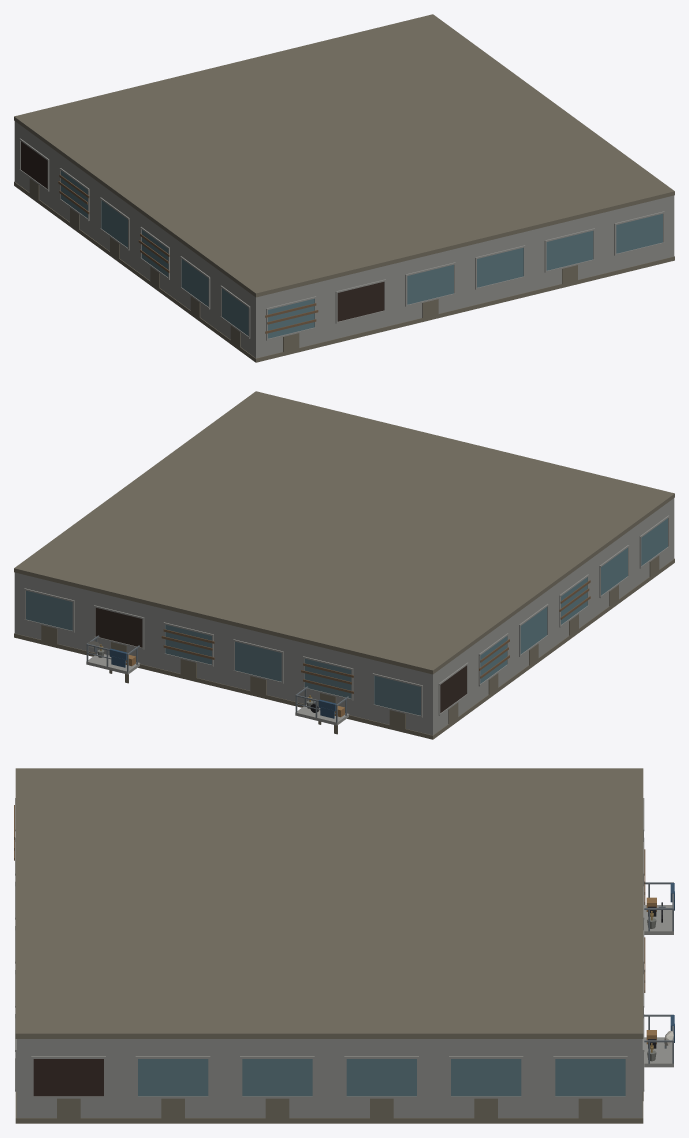
The model's file is tw_slab_24_floor.glb.
The picture shows the model from 3 angles, top to bottom: view 1: azimuth 30°, elevation 25°; view 2: azimuth 150°, elevation 25°; view 3: azimuth 270°, elevation 25°; orthographic projection. The views are drawn at different scales.
Visible parts, largest first — view 1: tw_slab_24_floor; view 2: tw_slab_24_floor; view 3: tw_slab_24_floor.
Part boxes in pixels (bbox=[...]): tw_slab_24_floor: bbox=[14, 14, 674, 362]; tw_slab_24_floor: bbox=[14, 391, 674, 739]; tw_slab_24_floor: bbox=[14, 768, 674, 1123].
Size of the model in its own units: 24.16 by 4.78 by 25.34.
Materials: 3 (3 with a texture image).
